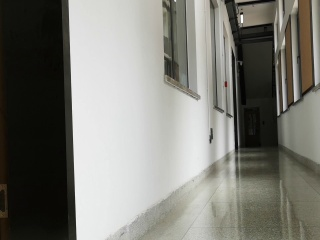room: (2, 2, 83, 236)
